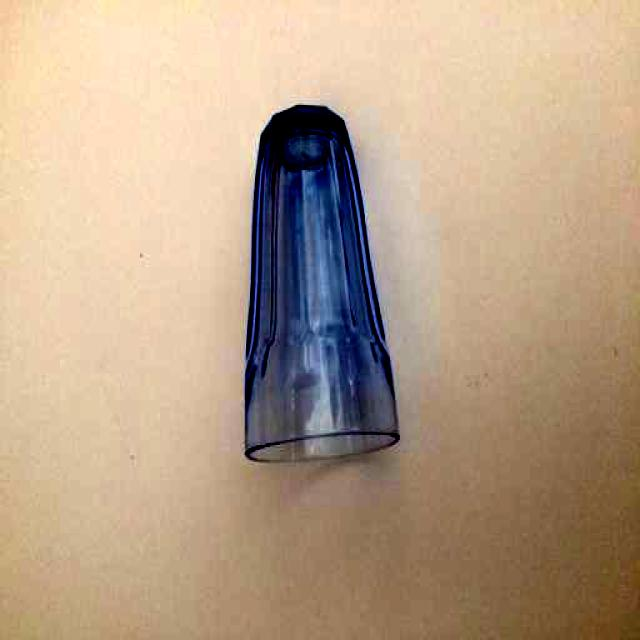Glass: (241, 98, 401, 470)
